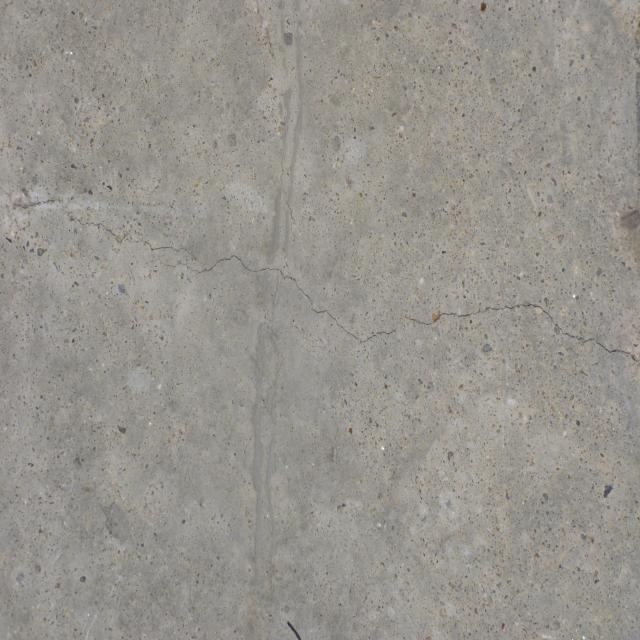horizontal crack: (0, 183, 640, 368)
vertical crack: (254, 0, 298, 234)
